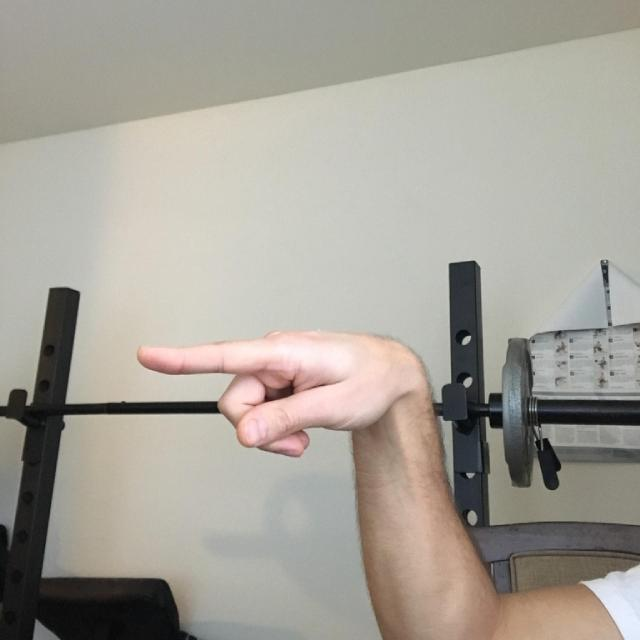P: (90, 272, 493, 522)
